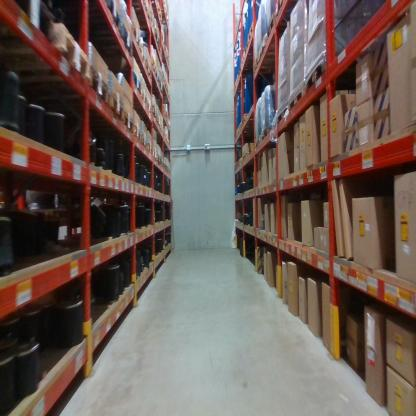pallet: (4, 23, 92, 90), (30, 64, 109, 106), (2, 4, 56, 51), (305, 59, 369, 96), (92, 25, 137, 64), (258, 32, 298, 74), (31, 200, 85, 225), (81, 2, 126, 31), (253, 50, 295, 80), (261, 16, 295, 51), (105, 74, 142, 94), (107, 89, 125, 123), (288, 88, 307, 116), (275, 98, 289, 132), (130, 39, 145, 66), (274, 2, 297, 19), (121, 112, 136, 136), (238, 122, 265, 134), (149, 2, 164, 22), (142, 87, 153, 114), (261, 124, 275, 145), (241, 114, 258, 128), (139, 131, 149, 150), (254, 130, 263, 151), (242, 152, 255, 165), (132, 127, 141, 143), (152, 147, 158, 165), (148, 140, 154, 155), (238, 155, 243, 168)
